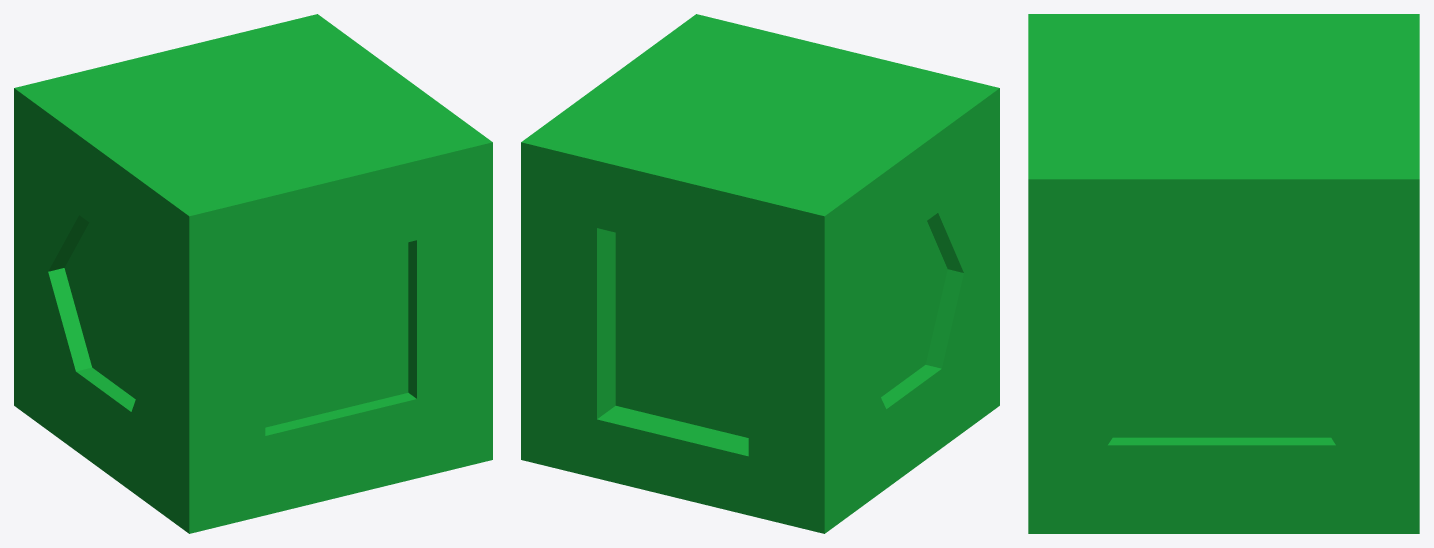
The model's file is Toy Shape Block greenish.fbx.
3 renders of one model, left to right at view 1: azimuth 30°, elevation 25°; view 2: azimuth 150°, elevation 25°; view 3: azimuth 270°, elevation 25°, orthographic. The views are drawn at different scales.
Parts seen in each view (by area): view 1: Toy Block; view 2: Toy Block; view 3: Toy Block.
Part boxes in pixels (x1,y1,x2,y2): Toy Block: (14, 14, 492, 533); Toy Block: (521, 14, 999, 533); Toy Block: (1028, 14, 1419, 533).
Size of the model in its own units: 200 by 200 by 200.
